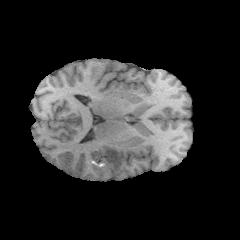glioma: (63, 137, 132, 171)
